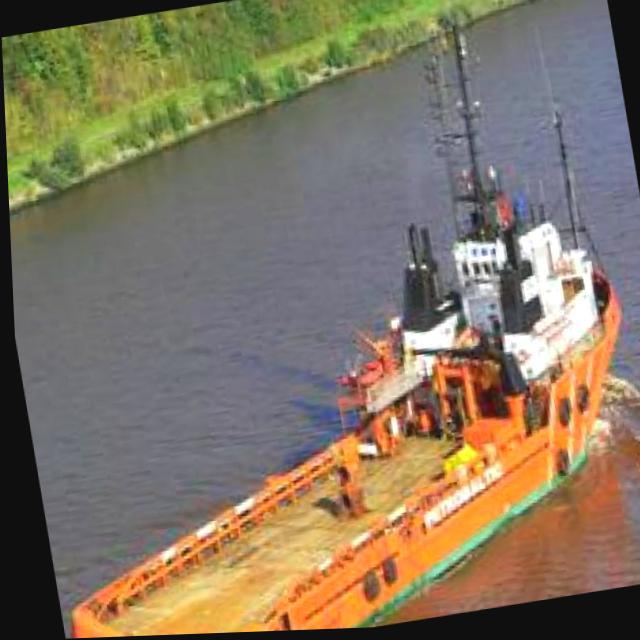ship2: (64, 28, 620, 639)
